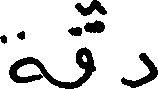ة: (0, 28, 45, 83)
د: (119, 51, 155, 87)
ق: (67, 0, 103, 87)
